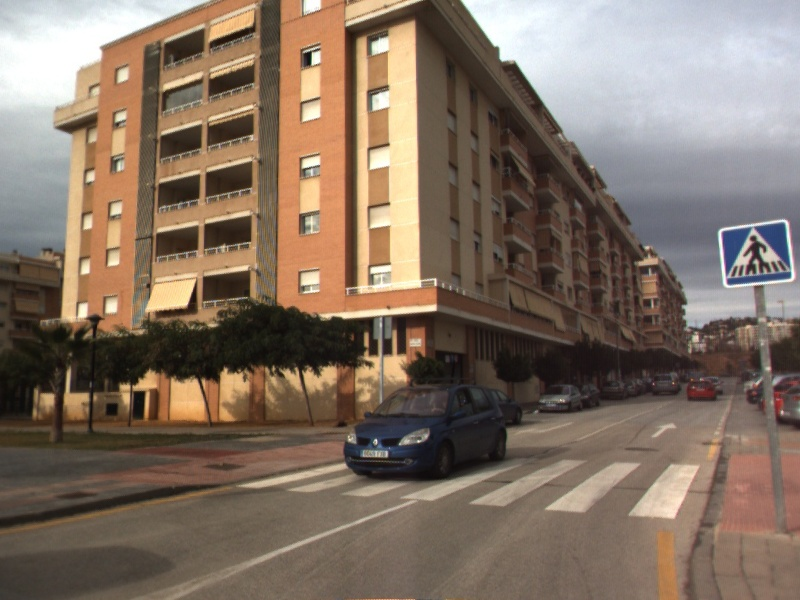STRAIGHT: (649, 420, 679, 439)
